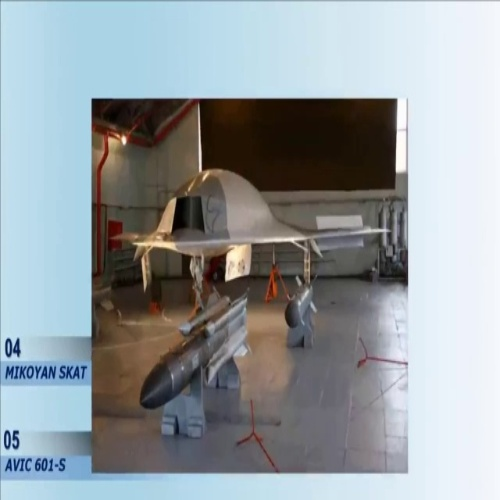uav: (109, 164, 394, 310)
